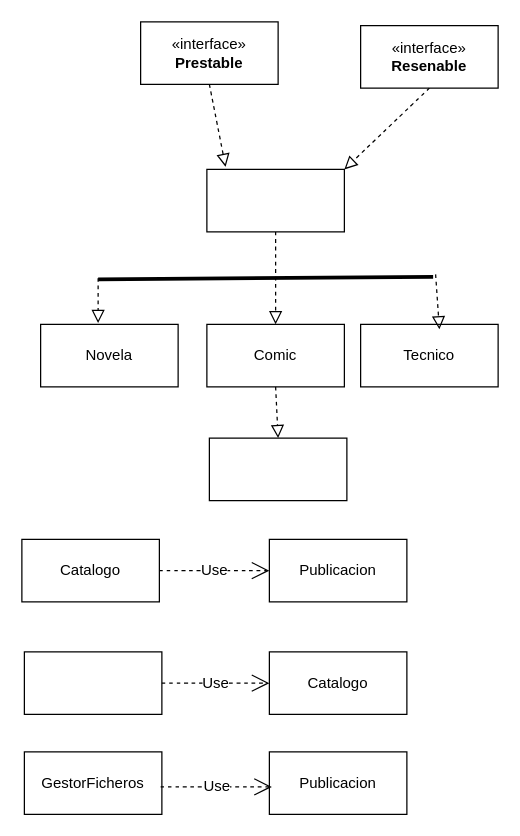
Some shapes in this 520 by 836 pixel diagram are drawn without their labels. The shapes that lost their labels are listed below. From the top down, each one's centre as x and y in pixels, then its label:
At pixel 275 200: "Publicación (abstract)".
At pixel 277 469: "Resenable".
At pixel 92 682: "VentanaPrincipal".
